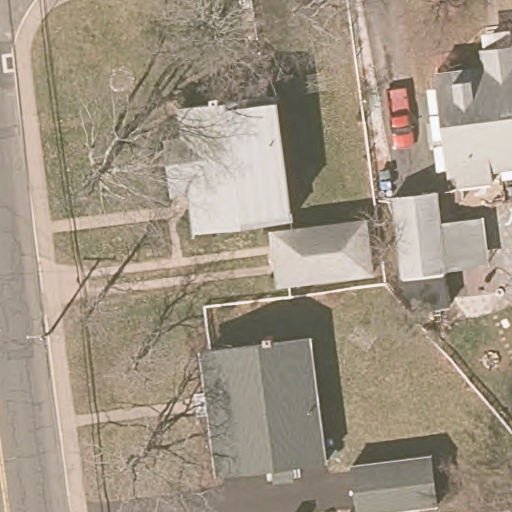DT: (26, 333, 51, 342)
